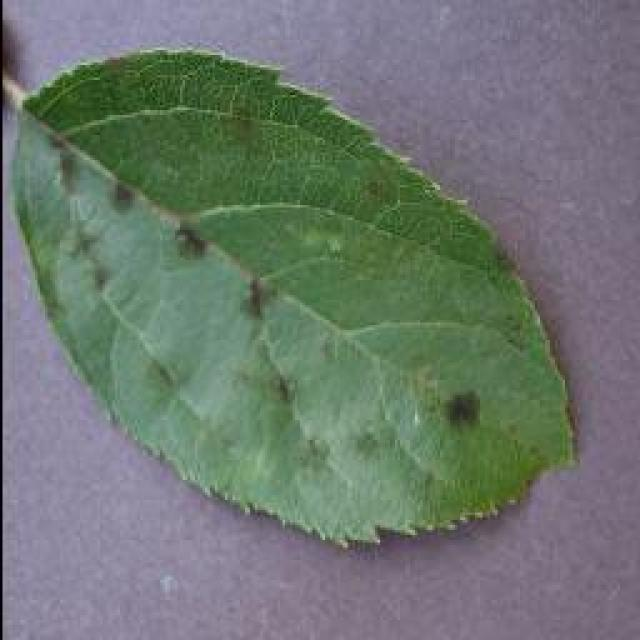apple scab disease: (8, 42, 580, 548)
